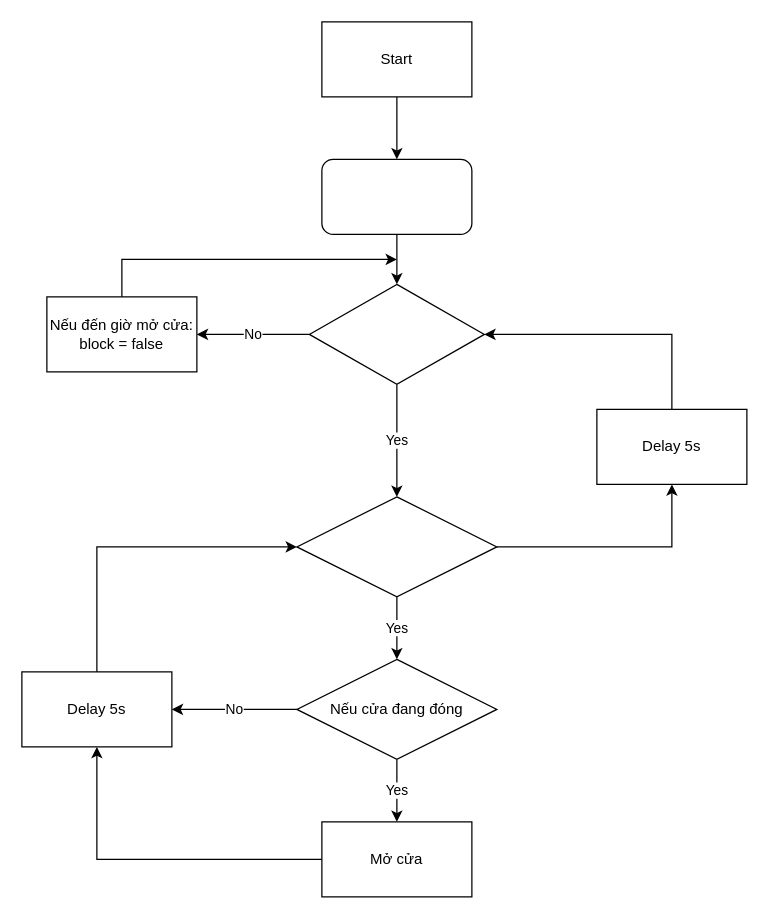
Image size: 769x919. Some labels were removed from this diagram. Each missing label, with the centre of its shape:
"block = true" belongs at point (396, 196).
"if block == false" belongs at point (396, 333).
"Nếu có người đến gần cửa" belongs at point (396, 546).
